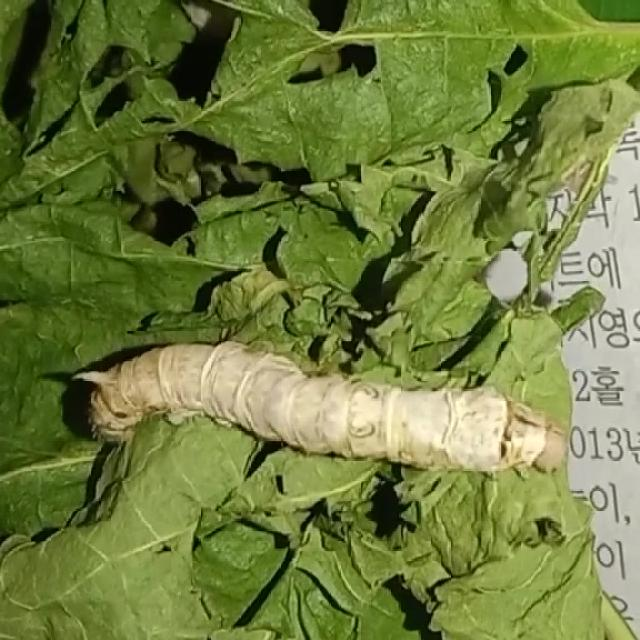Grasserie: (70, 333, 570, 495)
